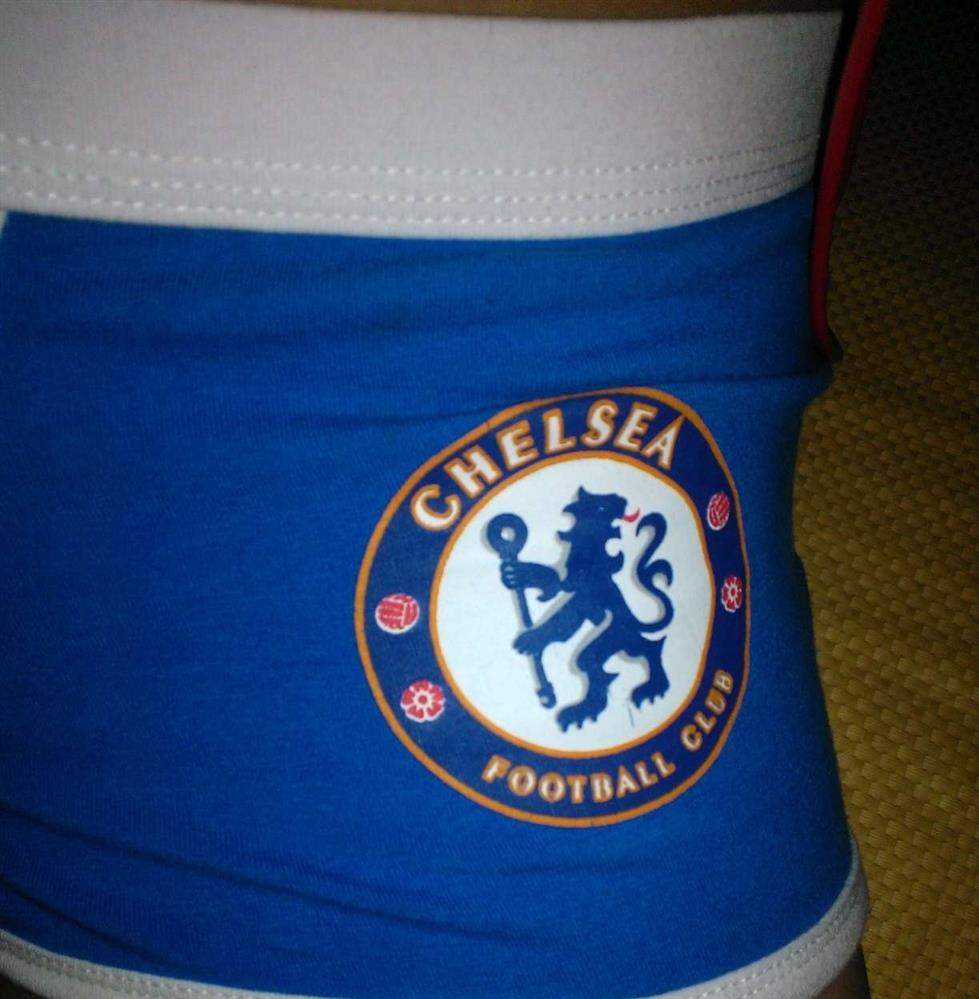chelsea: (363, 389, 757, 811)
